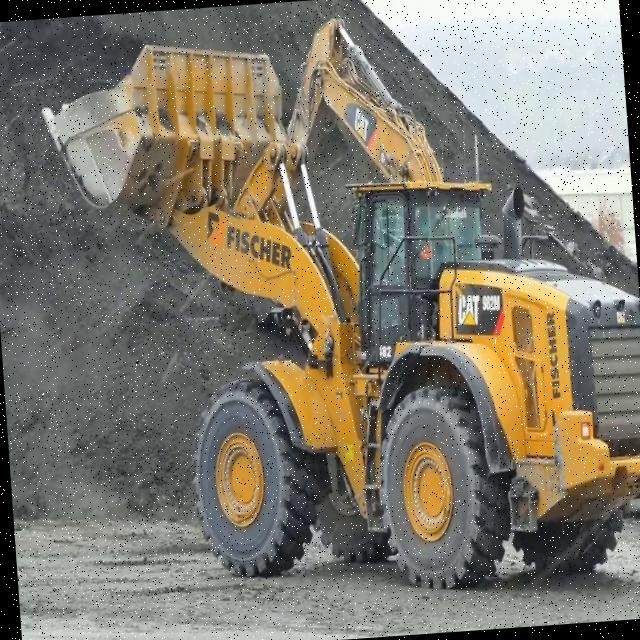Excavator: (213, 6, 459, 330)
Loader: (31, 8, 640, 620)
